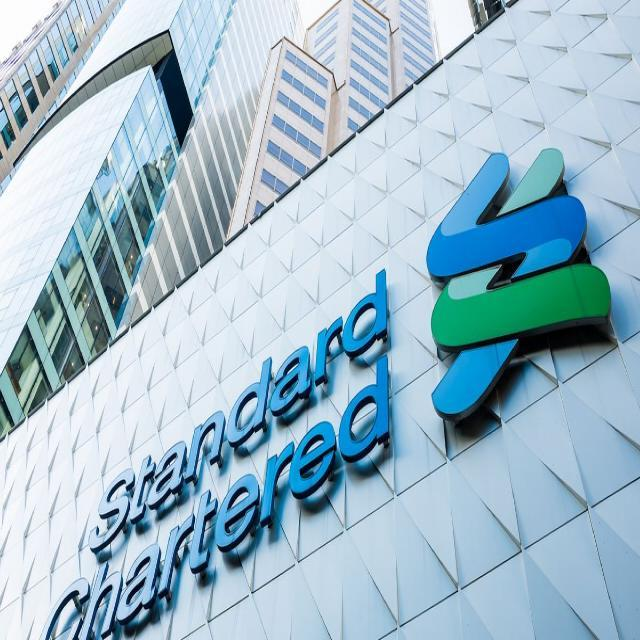Standard Chartered: (38, 144, 613, 640)
